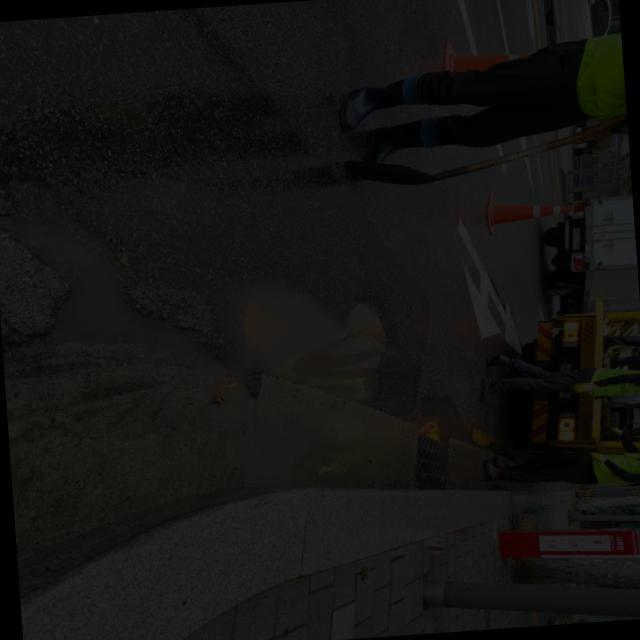pothole: (190, 276, 435, 424)
